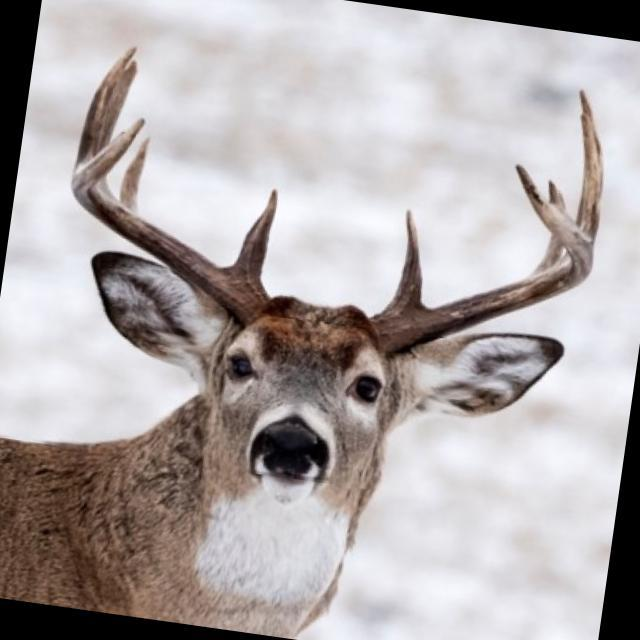L-F: (369, 162, 594, 356)
L-G1: (391, 208, 426, 308)
R-F: (71, 118, 276, 328)
R-G1: (230, 188, 279, 281)
